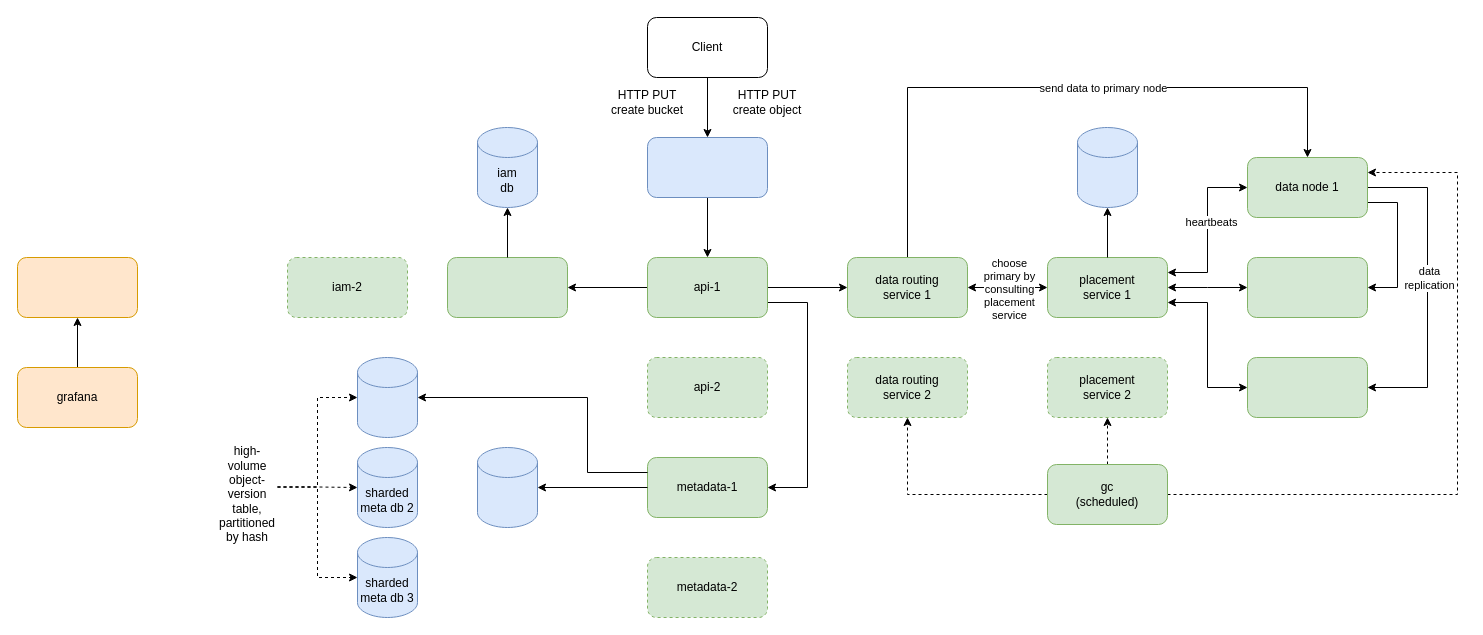
The diagram is 1483 pixels wide and 635 high, and some of its shapes have lost their labels. Here are the shapes that lost their labels. From the top down, the box of each, then its label:
(646, 136, 768, 198): nginx load balancer
(1076, 126, 1138, 208): placement db
(16, 256, 138, 318): prometheus
(446, 256, 568, 318): iam-1
(1246, 256, 1368, 318): data node 2
(356, 356, 418, 438): sharded meta db 1
(1246, 356, 1368, 418): data node 3
(476, 446, 538, 528): metadata global db (buckets, multipart)
